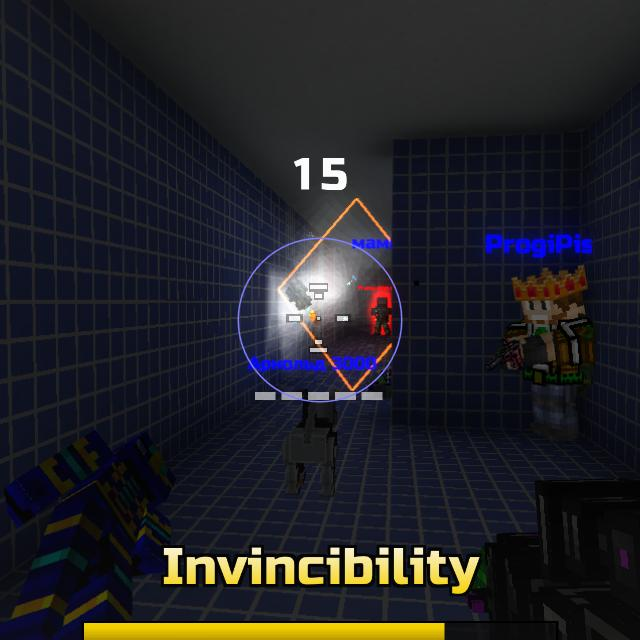Enemy: (370, 297, 392, 335)
